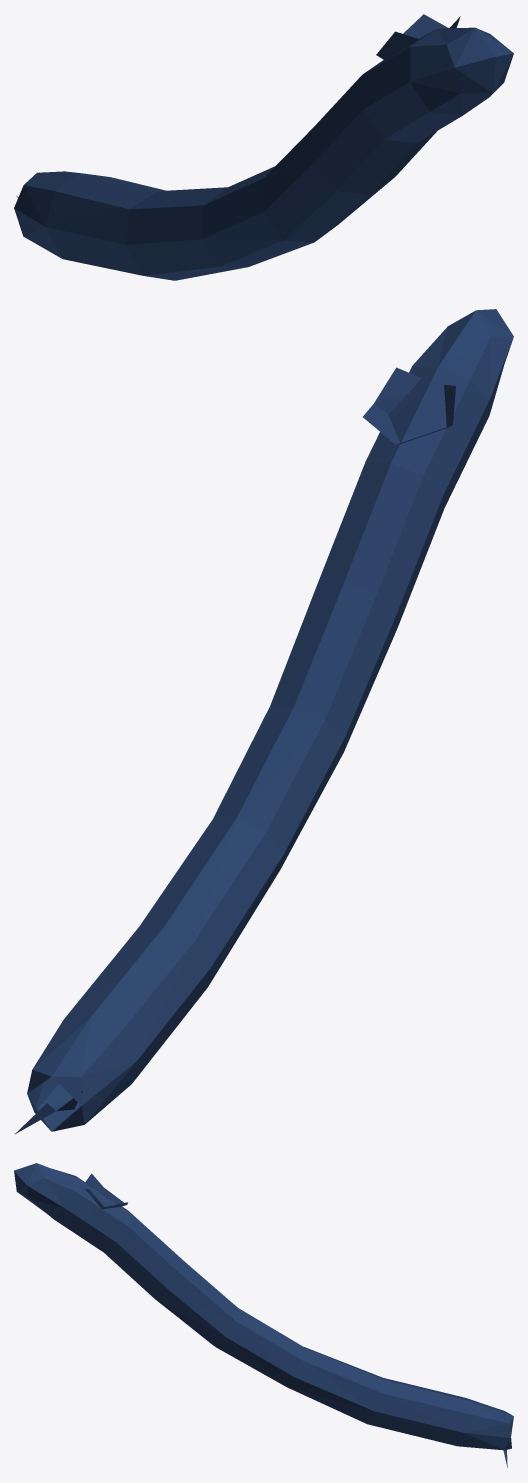
File: Seno Recto.FBX
The picture shows the model from 3 angles, top to bottom: view 1: azimuth 30°, elevation 25°; view 2: azimuth 150°, elevation 25°; view 3: azimuth 270°, elevation 25°; orthographic projection. The views are drawn at different scales.
Parts seen in each view (by area): view 1: CS_Veins; view 2: CS_Veins; view 3: CS_Veins.
Boxes of the visible parts, box(x1,y1,x2,y2) form: CS_Veins: box(14, 14, 513, 280); CS_Veins: box(14, 309, 513, 1134); CS_Veins: box(14, 1163, 513, 1467).
Size of the model in its own units: 13 by 79.79 by 123.
